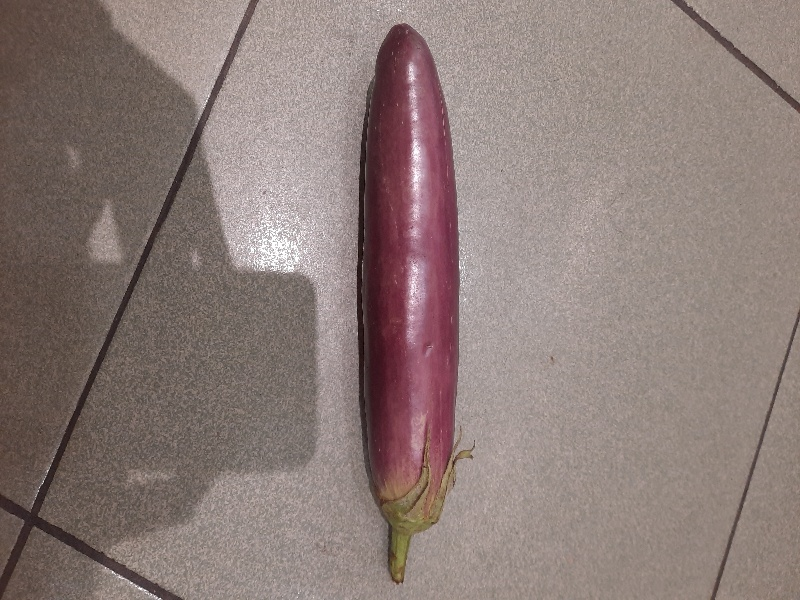vege: (332, 10, 480, 594)
